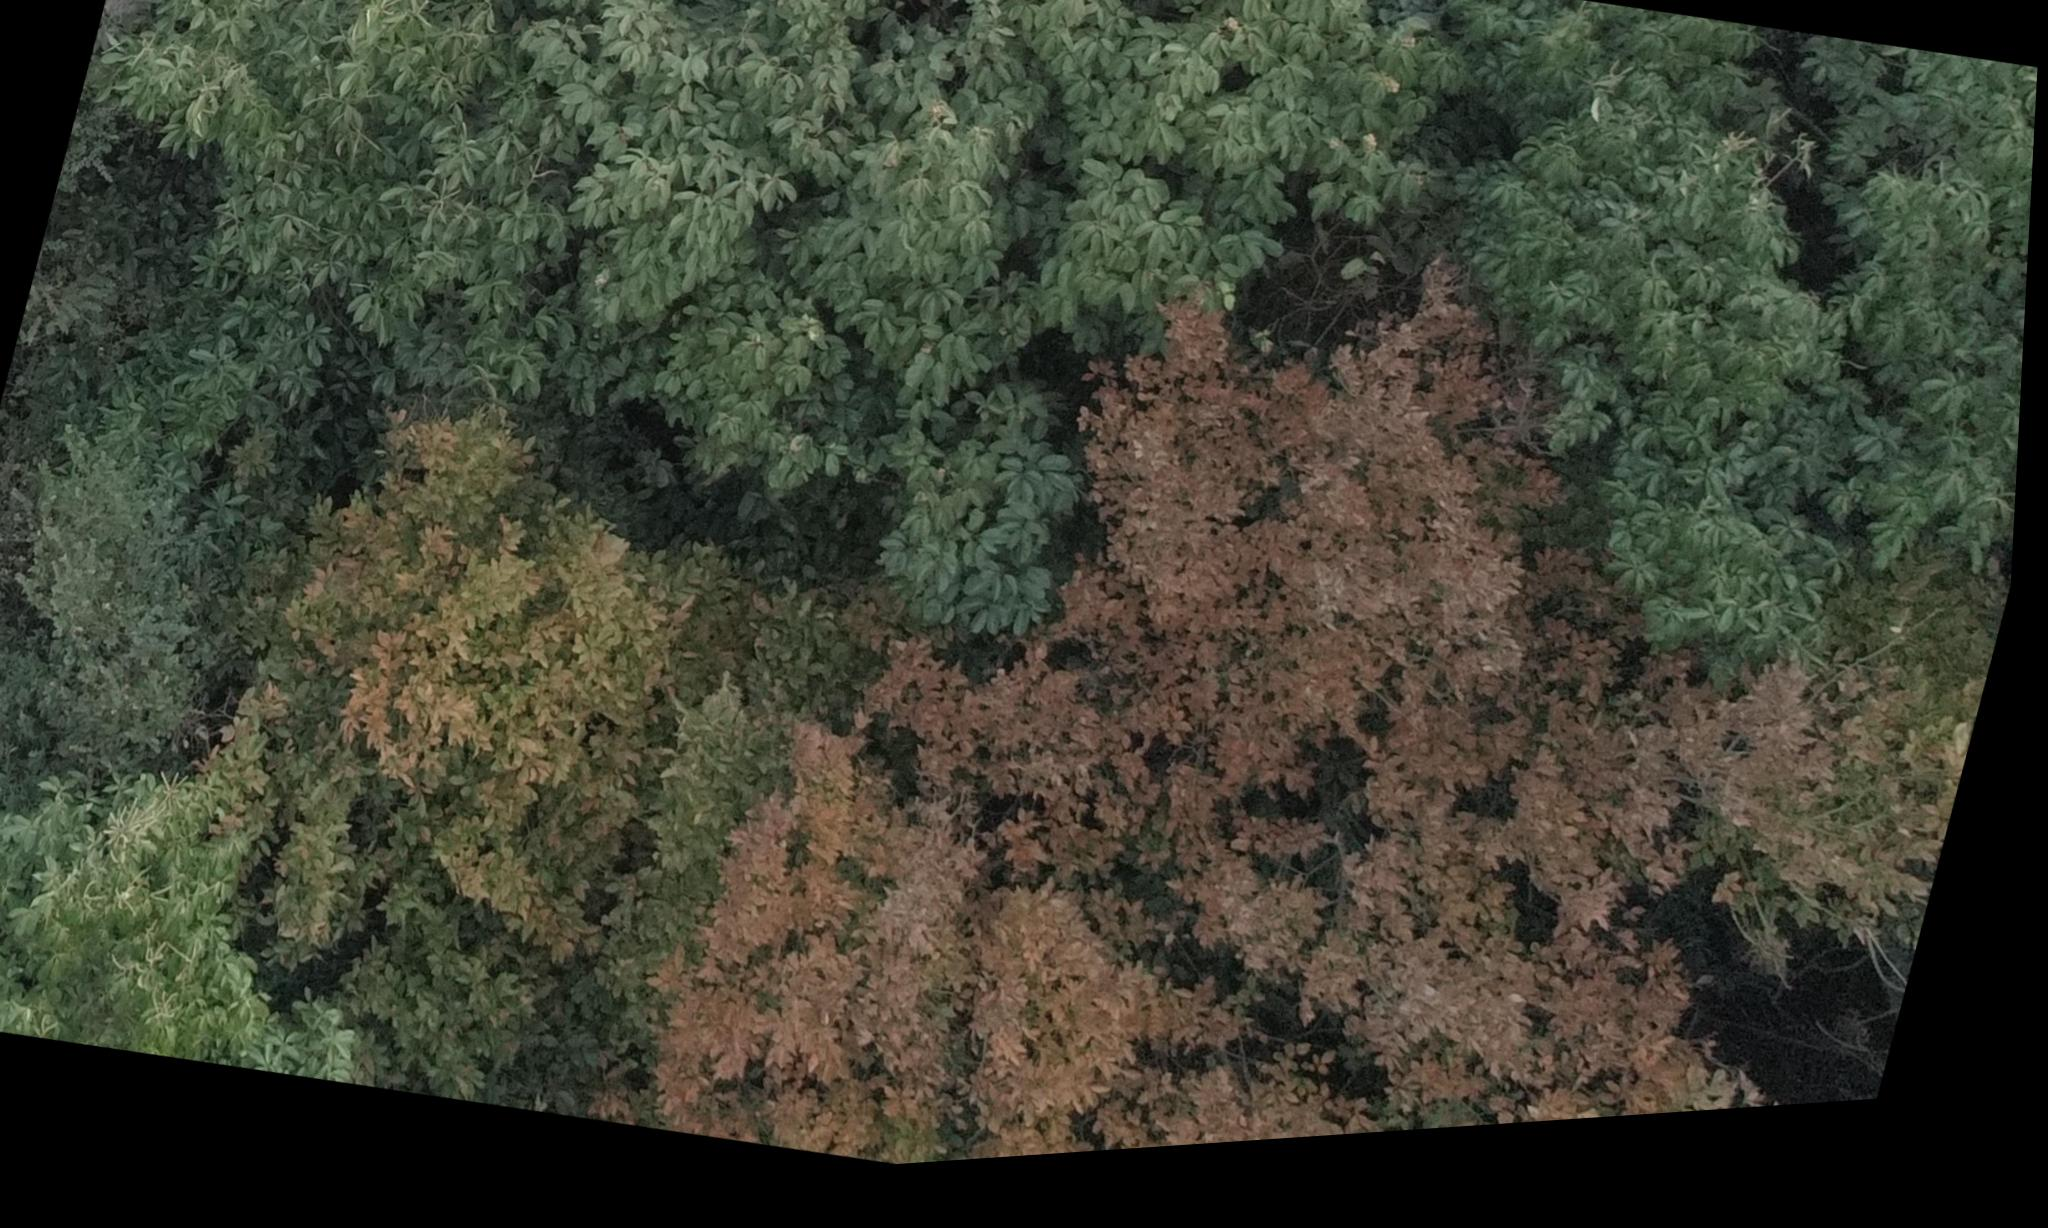heavy: (640, 187, 2036, 1191)
